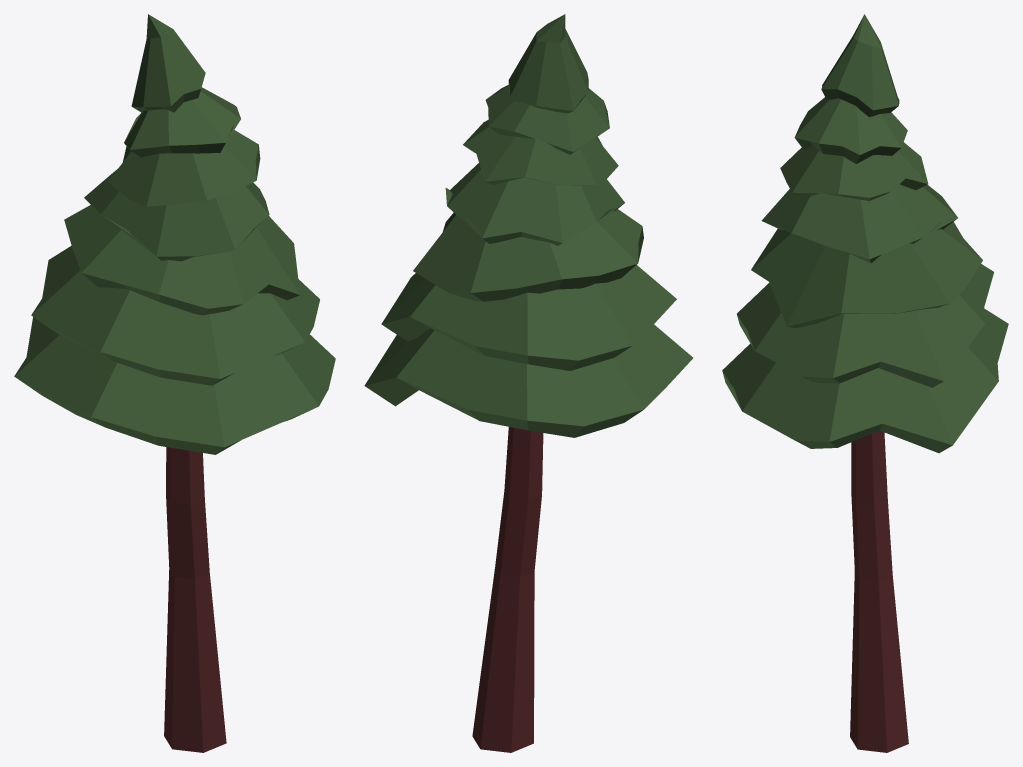
The model's file is pine4.fbx.
The picture shows the model from 3 angles, left to right: view 1: azimuth 30°, elevation 25°; view 2: azimuth 150°, elevation 25°; view 3: azimuth 270°, elevation 25°; orthographic projection. The views are drawn at different scales.
Parts seen in each view (by area): view 1: Spruce4; view 2: Spruce4; view 3: Spruce4.
Part boxes in pixels (left/top/right/bottom): Spruce4: left=14, top=14, right=335, bottom=752; Spruce4: left=364, top=14, right=693, bottom=752; Spruce4: left=722, top=14, right=1008, bottom=752.
Bounding box in the file's own units: 398 × 1025 × 380.
